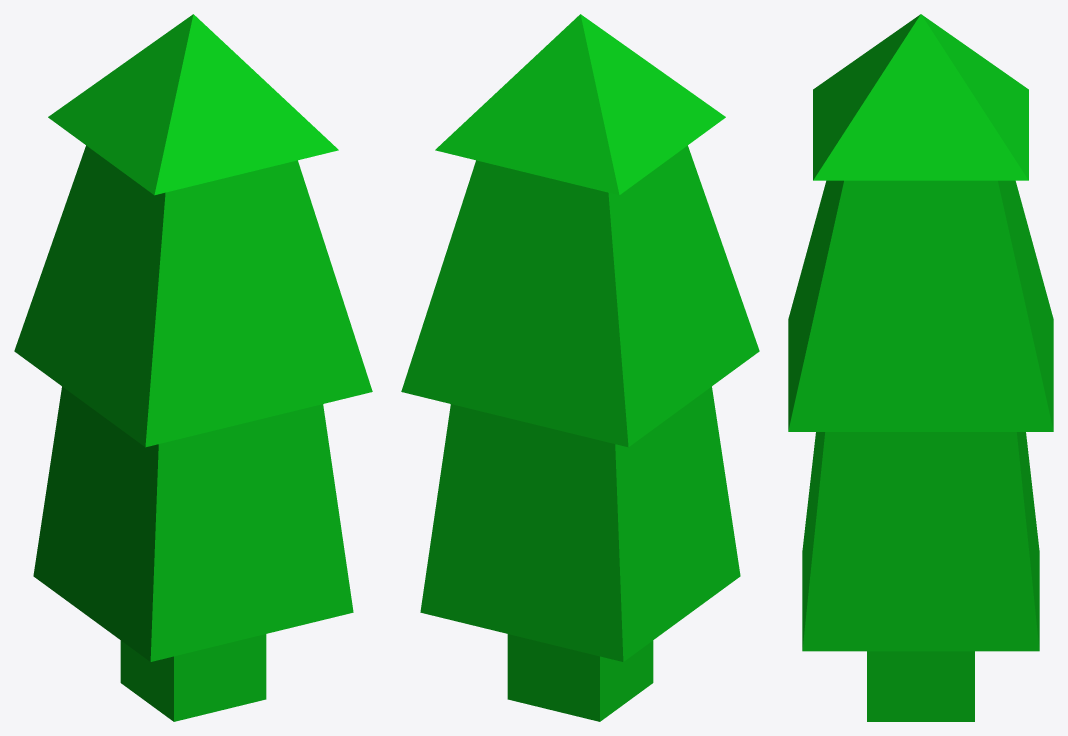
File: sample_tree.obj
3 renders of one model, left to right at view 1: azimuth 30°, elevation 25°; view 2: azimuth 150°, elevation 25°; view 3: azimuth 270°, elevation 25°, orthographic.
Parts seen in each view (by area): view 1: Cube; view 2: Cube; view 3: Cube.
Part boxes in pixels (x1,y1,x2,y2): Cube: (14, 14, 372, 721); Cube: (401, 14, 759, 721); Cube: (788, 14, 1053, 721).
Size of the model in its own units: 2.46 by 7 by 2.46.
